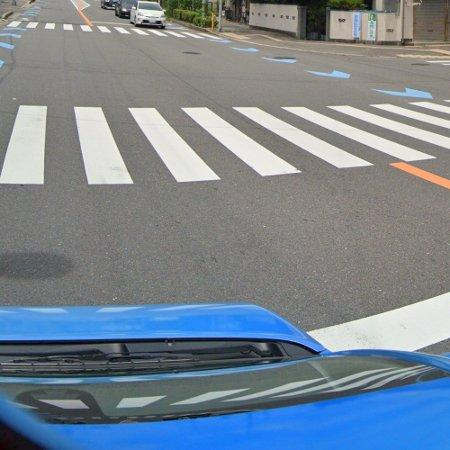crosswalks: (0, 97, 450, 186)
